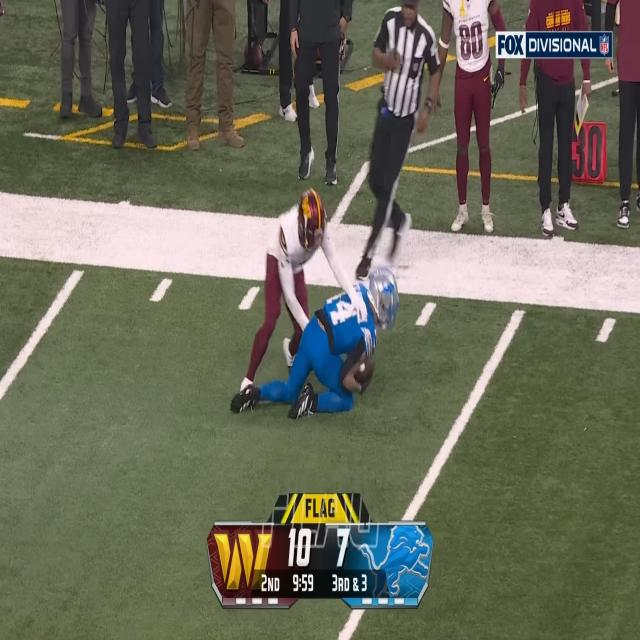Ball: (354, 357, 375, 385)
